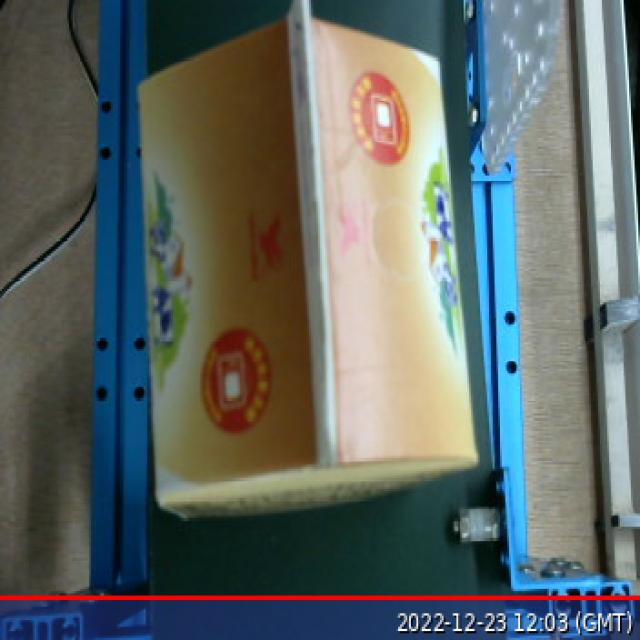non_white_jug: (118, 3, 501, 544)
